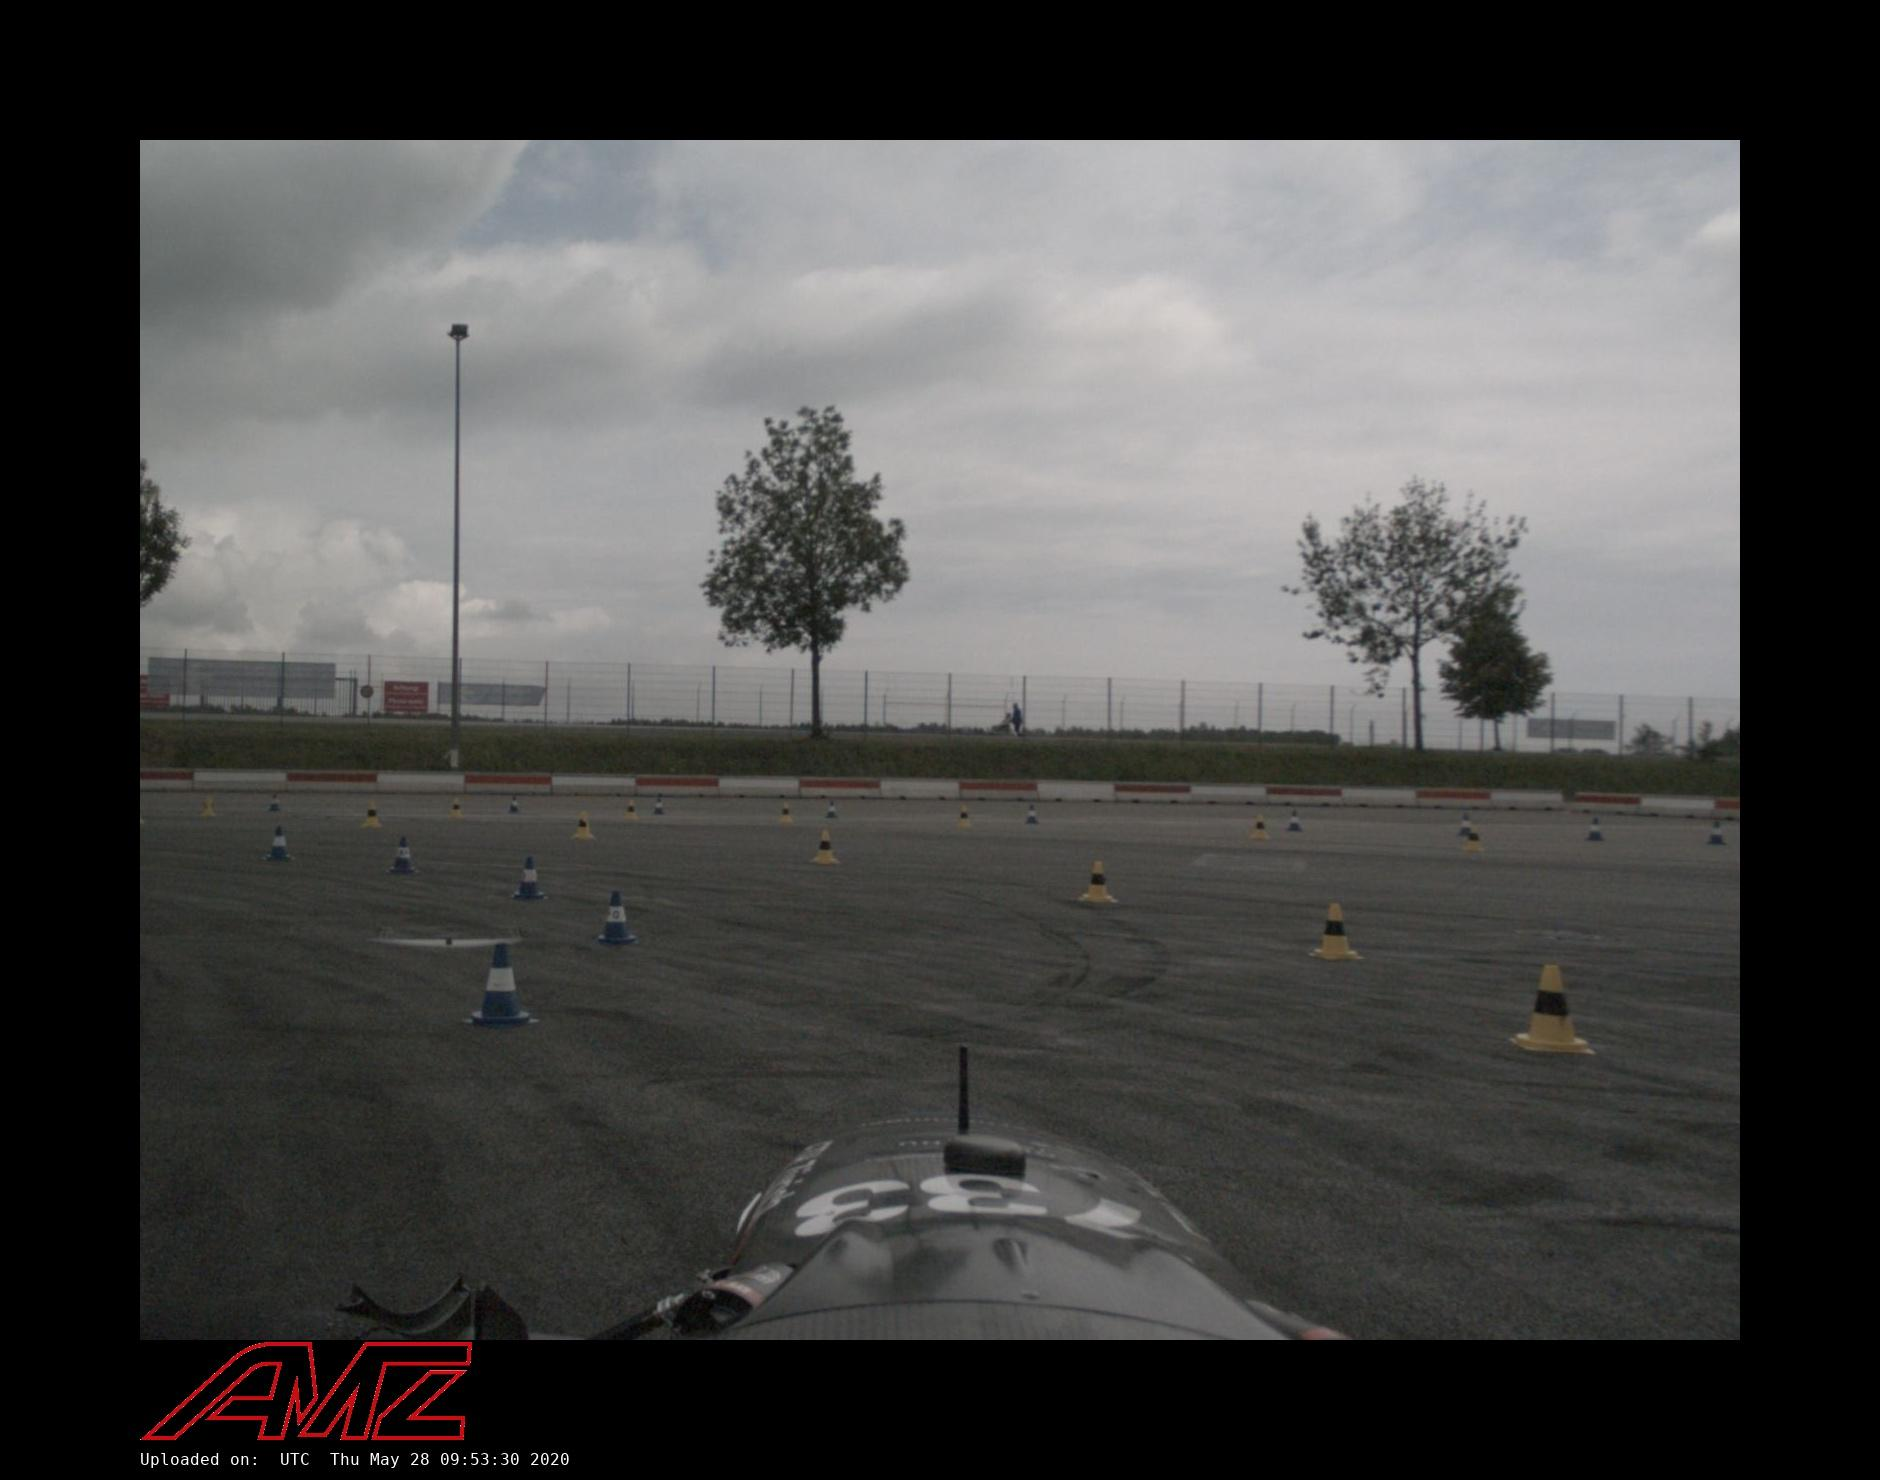blue_cone: (461, 941, 542, 1028), (594, 890, 642, 949), (510, 856, 546, 902), (386, 836, 417, 874), (266, 824, 291, 861), (1705, 819, 1726, 845), (1585, 816, 1605, 841), (1457, 812, 1476, 838), (1285, 809, 1305, 832), (1024, 803, 1039, 825), (267, 790, 282, 813), (824, 800, 838, 819), (507, 795, 520, 813), (652, 798, 665, 815)
yellow_cone: (1508, 961, 1595, 1054), (1309, 903, 1366, 960), (1077, 859, 1119, 905), (812, 828, 838, 864), (572, 810, 594, 839), (1463, 825, 1485, 851), (362, 803, 381, 828), (1251, 813, 1270, 838), (198, 793, 217, 818), (777, 801, 795, 822), (623, 798, 638, 821), (955, 806, 972, 825), (449, 796, 464, 818)
